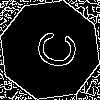C: (25, 25, 79, 72)
